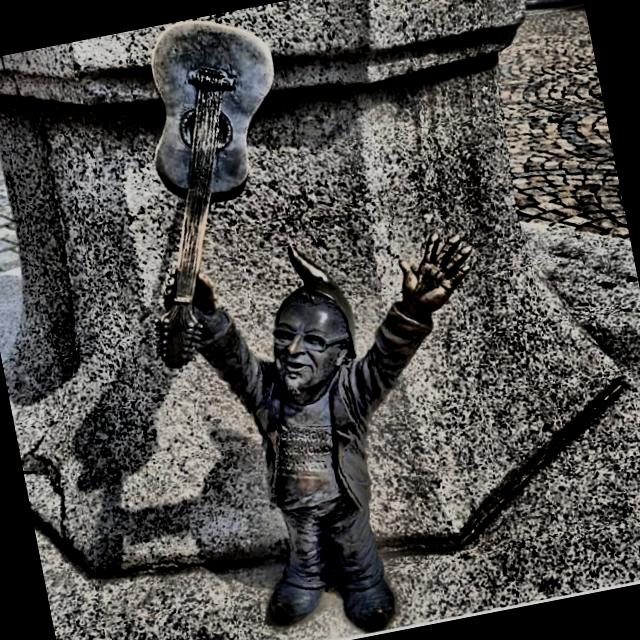Leszko_z_Wroclawia: (152, 22, 471, 634)
